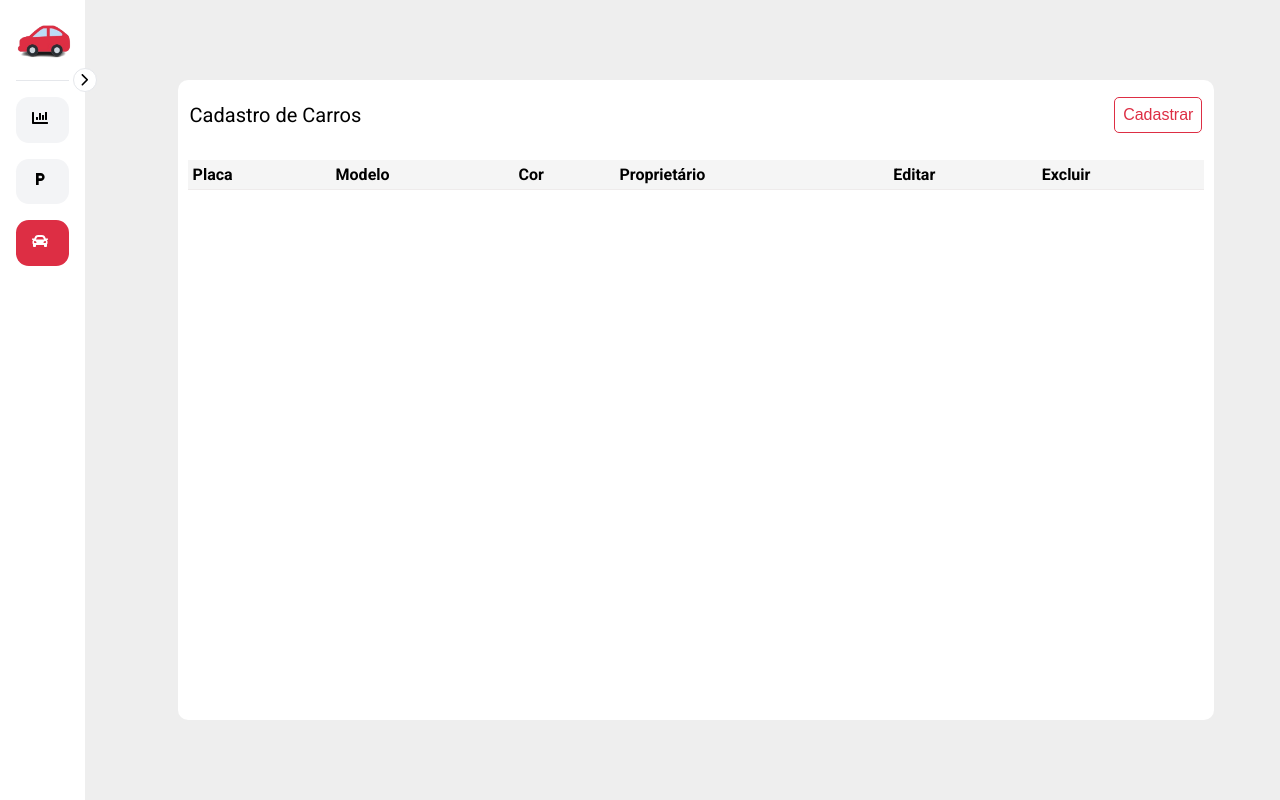
Scenario: Página de Cadastro de Veículos › Deve fechar o modal ao clicar no botão "Cancelar"
Abrir o modal
Click the button with class "new" at [1158, 115], box x1=1114 y1=97 x2=1202 y2=133
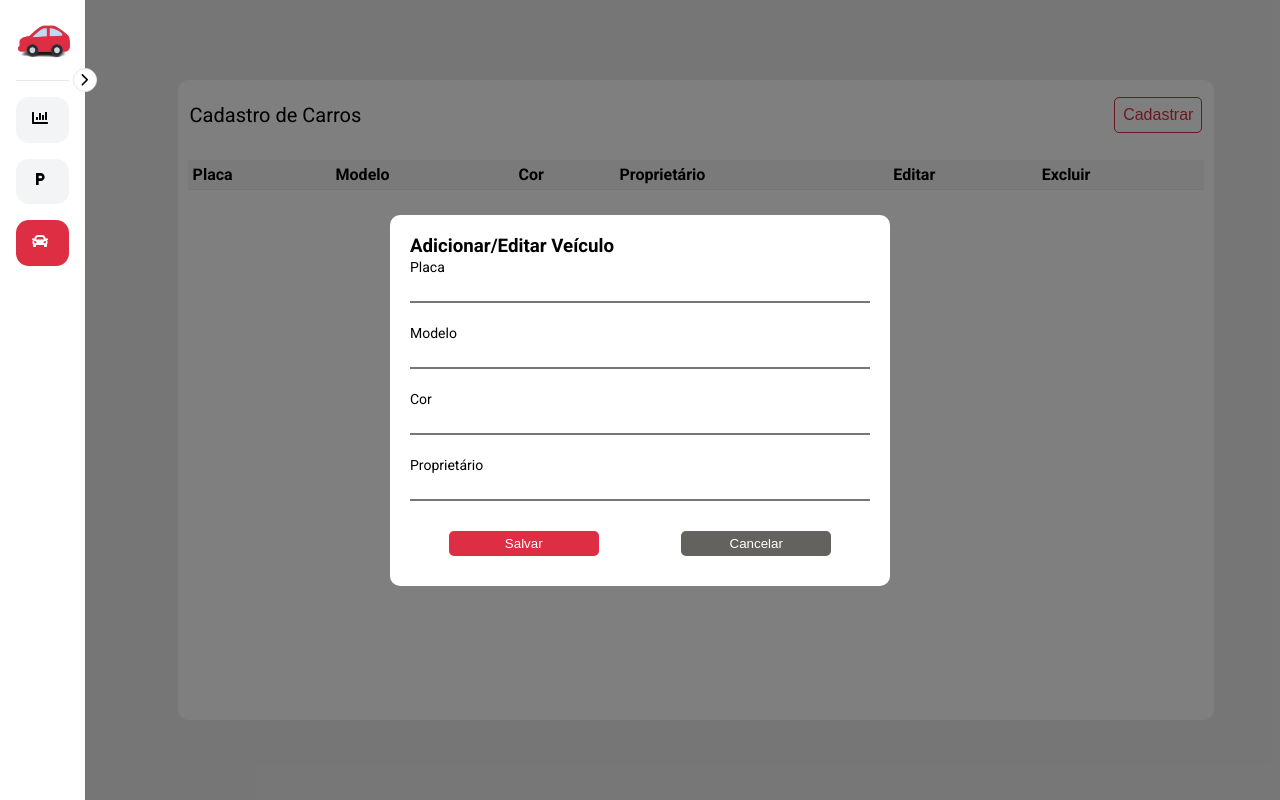
Clicar no botão "Cancelar"
Click the button with class "cancel-button" at [756, 544], box x1=681 y1=531 x2=831 y2=556
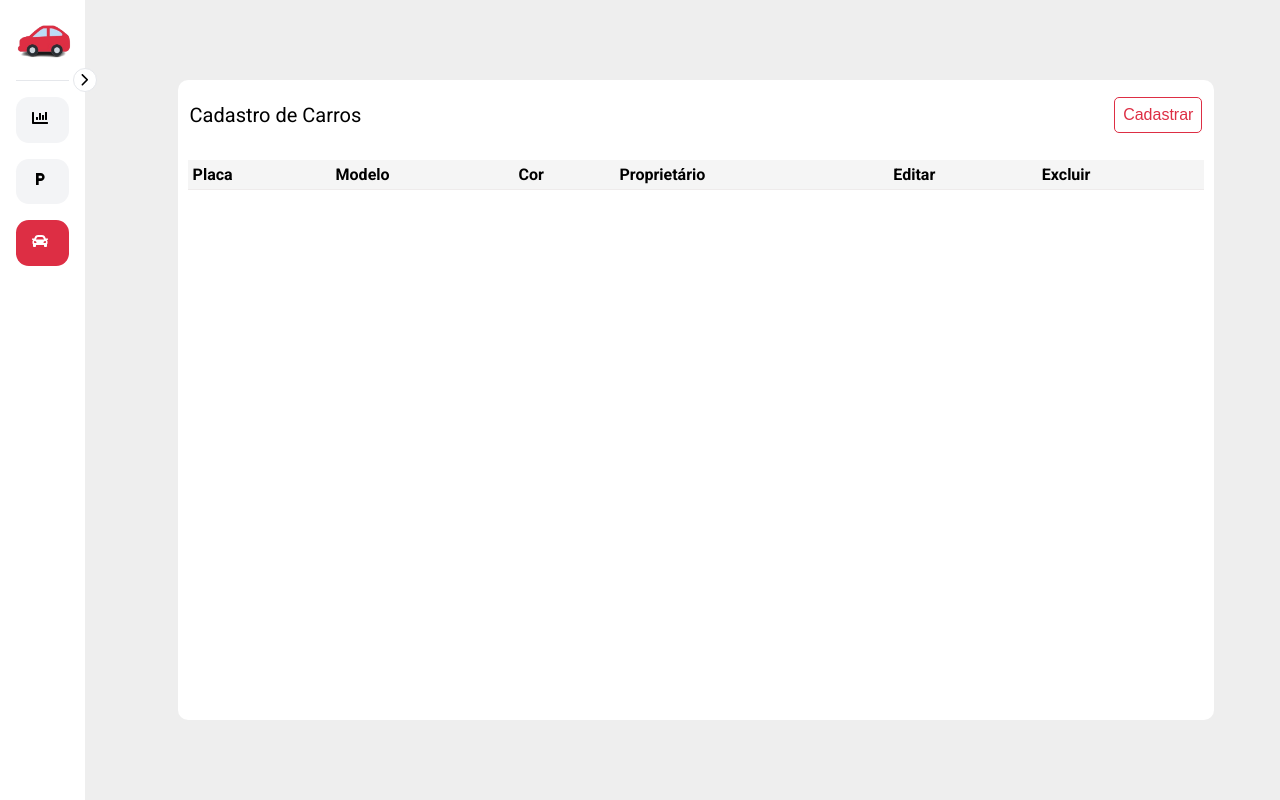
Now the element with class "modal-container" is gone
